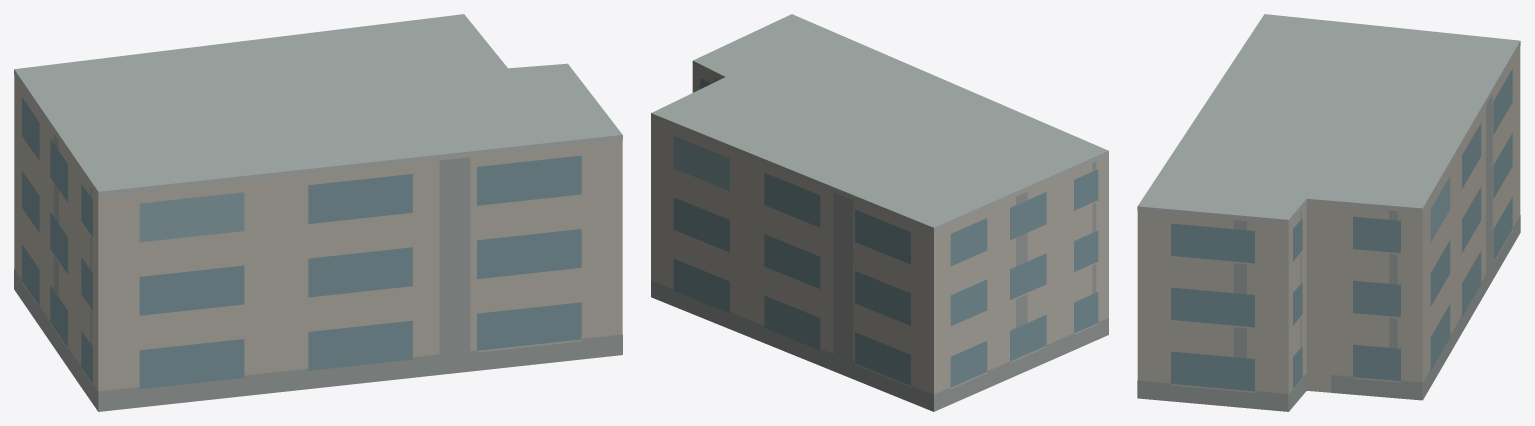
The model's file is survey-upis-32933740.glb.
The picture shows the model from 3 angles, left to right: view 1: azimuth 30°, elevation 25°; view 2: azimuth 150°, elevation 25°; view 3: azimuth 270°, elevation 25°; orthographic projection. The views are drawn at different scales.
Visible parts, largest first — view 1: survey-upis-32933740.tmp; view 2: survey-upis-32933740.tmp; view 3: survey-upis-32933740.tmp.
Boxes of the visible parts, left/top/right/bottom form: survey-upis-32933740.tmp: left=14, top=14, right=622, bottom=411; survey-upis-32933740.tmp: left=651, top=14, right=1108, bottom=411; survey-upis-32933740.tmp: left=1137, top=14, right=1520, bottom=411.
Size of the model in its own units: 21.04 by 9.15 by 16.55.
